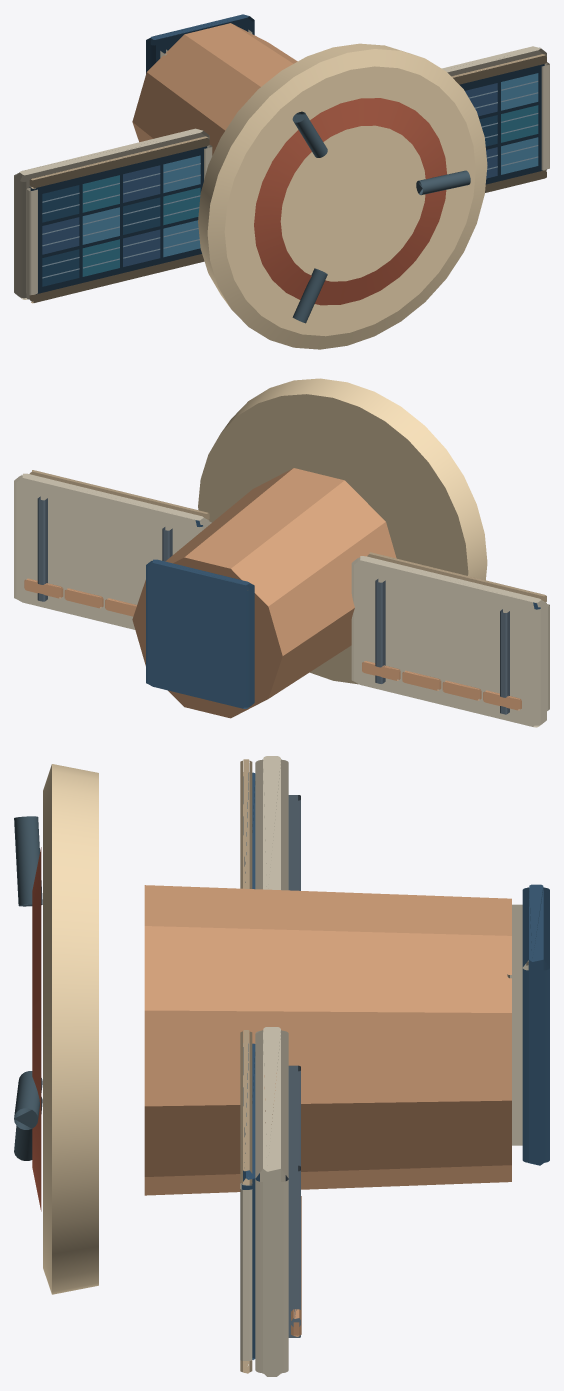
File: escudo-en-vuelo.obj
3 renders of one model, top to bottom at view 1: azimuth 30°, elevation 25°; view 2: azimuth 150°, elevation 25°; view 3: azimuth 270°, elevation 25°, orthographic. The views are drawn at different scales.
Parts seen in each view (by area): view 1: escudo-en-vuelo; view 2: escudo-en-vuelo; view 3: escudo-en-vuelo.
Boxes of the visible parts, x1,y1,x2,y2 form: escudo-en-vuelo: [14, 14, 549, 349]; escudo-en-vuelo: [14, 378, 549, 727]; escudo-en-vuelo: [14, 756, 549, 1376].
Bounding box in the file's own units: 0.658 × 0.35 × 0.353.
